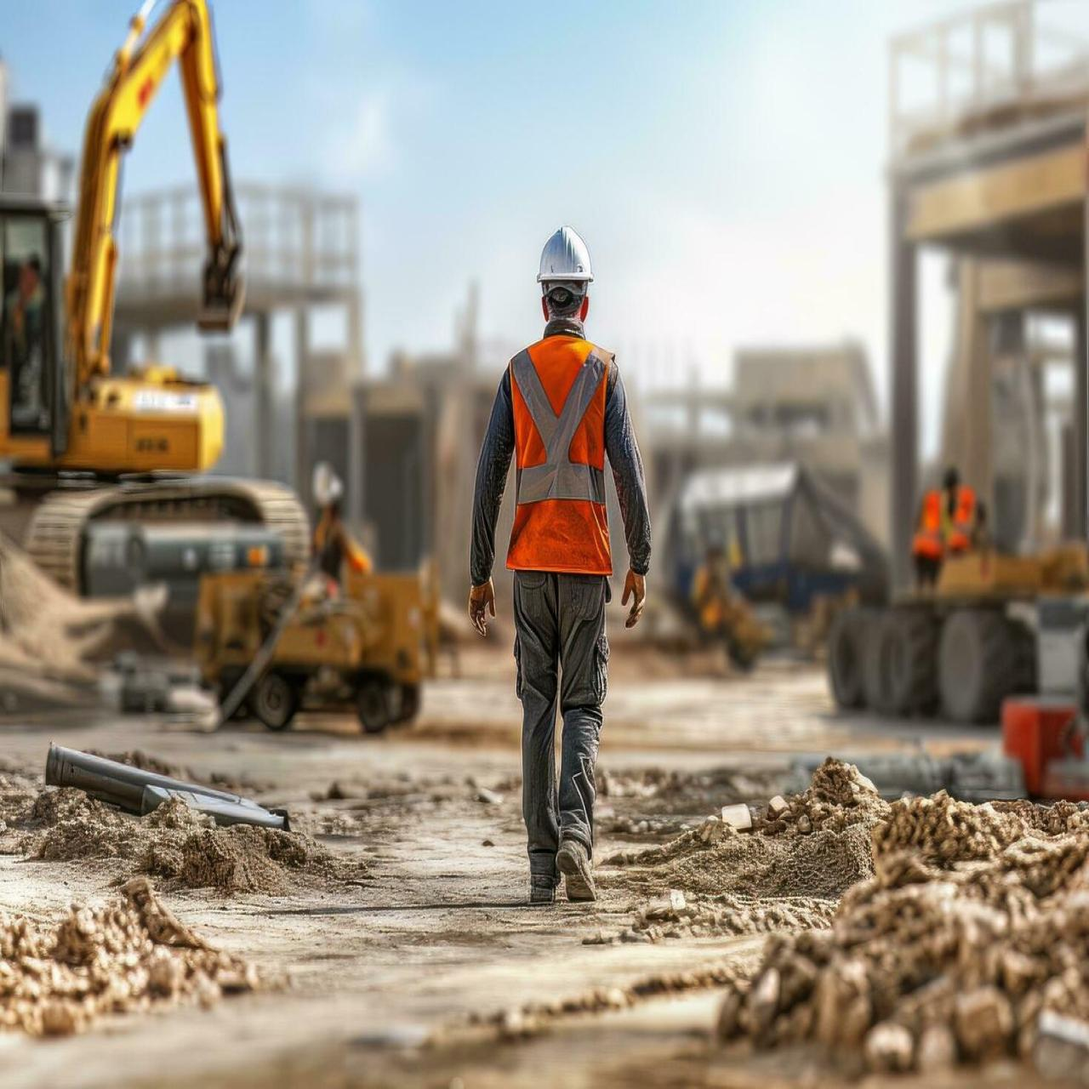Person: (455, 207, 672, 909)
Safety_Vest: (504, 329, 621, 592)
